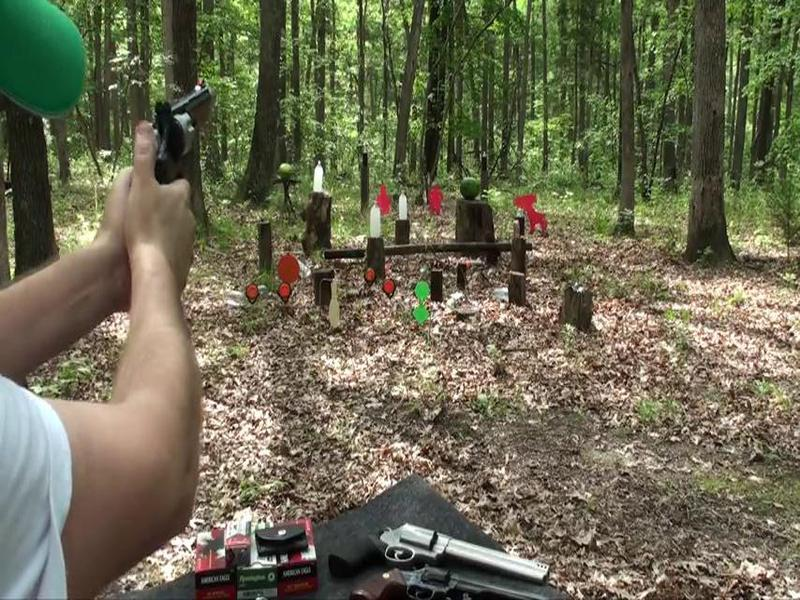Revolver: (127, 76, 226, 212)
